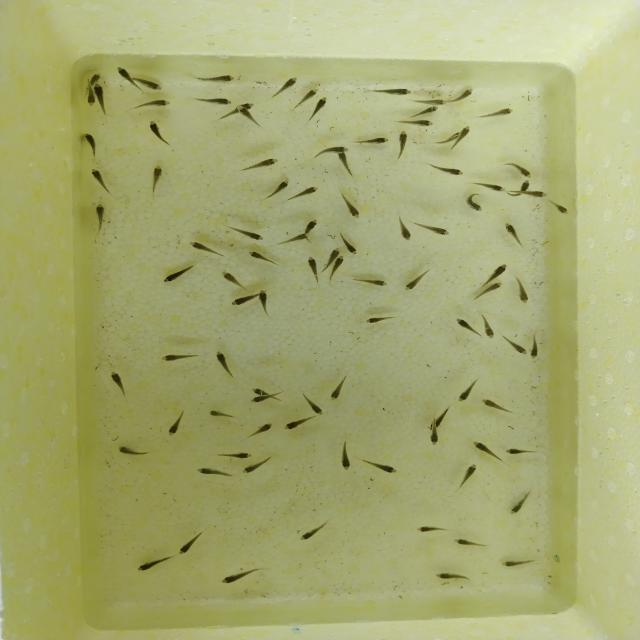fingerling: (298, 519, 333, 543), (282, 414, 323, 434), (217, 270, 256, 291), (160, 262, 197, 284), (165, 406, 190, 438), (508, 486, 533, 517), (136, 556, 179, 574), (188, 239, 226, 259), (219, 568, 260, 586), (471, 439, 503, 462), (177, 530, 205, 556), (404, 268, 434, 292), (147, 119, 173, 146), (106, 370, 131, 398), (237, 156, 280, 172), (414, 220, 454, 237), (160, 349, 200, 366), (456, 461, 478, 491), (298, 391, 324, 416), (471, 282, 505, 301), (358, 457, 396, 474), (362, 311, 402, 327), (501, 336, 530, 358), (340, 190, 361, 220), (475, 106, 517, 121), (502, 223, 527, 248), (190, 73, 238, 86), (455, 377, 478, 404), (89, 168, 112, 195), (264, 178, 292, 200), (248, 249, 282, 267), (304, 254, 323, 286), (129, 98, 174, 111), (241, 458, 270, 478), (289, 185, 323, 202), (502, 161, 534, 179), (148, 164, 166, 196), (328, 376, 350, 402), (214, 350, 235, 377), (271, 77, 298, 98), (336, 153, 356, 181), (433, 570, 473, 584), (216, 448, 256, 462), (498, 557, 541, 570), (482, 398, 513, 416), (454, 316, 480, 337), (512, 278, 533, 304), (471, 179, 507, 194), (228, 227, 266, 241), (351, 275, 389, 289), (244, 421, 275, 438), (82, 132, 102, 158), (196, 465, 236, 478), (431, 162, 465, 177), (274, 232, 310, 246), (115, 445, 156, 457), (545, 198, 572, 216), (485, 261, 509, 281), (294, 86, 318, 106), (396, 118, 436, 130), (396, 214, 413, 242), (433, 404, 452, 428), (350, 136, 391, 147), (228, 292, 258, 307), (338, 438, 351, 472), (482, 314, 498, 341), (450, 87, 474, 105), (452, 537, 491, 548), (371, 86, 410, 97), (464, 193, 484, 214), (414, 523, 456, 533), (193, 96, 234, 106), (92, 204, 107, 231), (340, 236, 360, 256), (408, 105, 441, 117), (396, 130, 409, 159), (207, 408, 240, 419), (257, 290, 270, 317), (505, 447, 540, 457), (528, 336, 542, 360), (414, 97, 448, 106), (312, 97, 331, 113), (140, 80, 164, 92), (304, 217, 322, 232), (318, 146, 350, 154), (428, 430, 442, 448), (458, 125, 470, 142), (528, 188, 548, 198), (86, 88, 96, 108), (334, 255, 346, 270), (234, 105, 248, 116), (518, 179, 532, 190), (116, 66, 130, 76), (328, 247, 342, 257), (250, 386, 265, 395), (93, 83, 104, 95), (250, 395, 264, 404), (90, 72, 102, 81)
